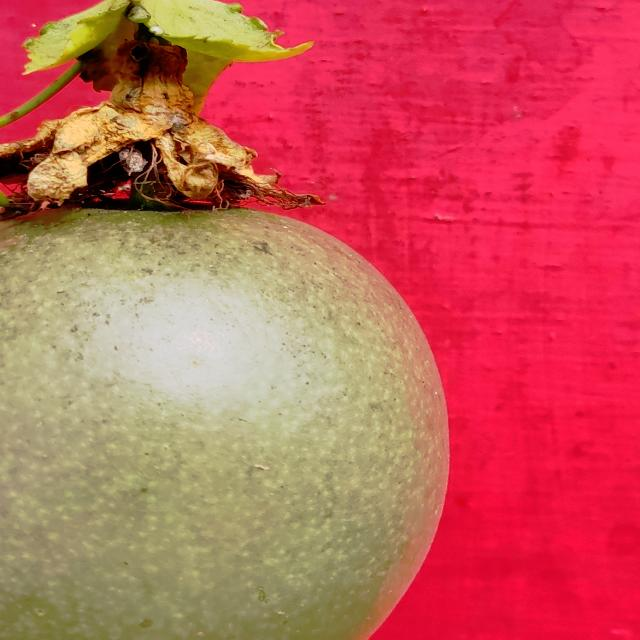Estado-1: (0, 0, 447, 640)
